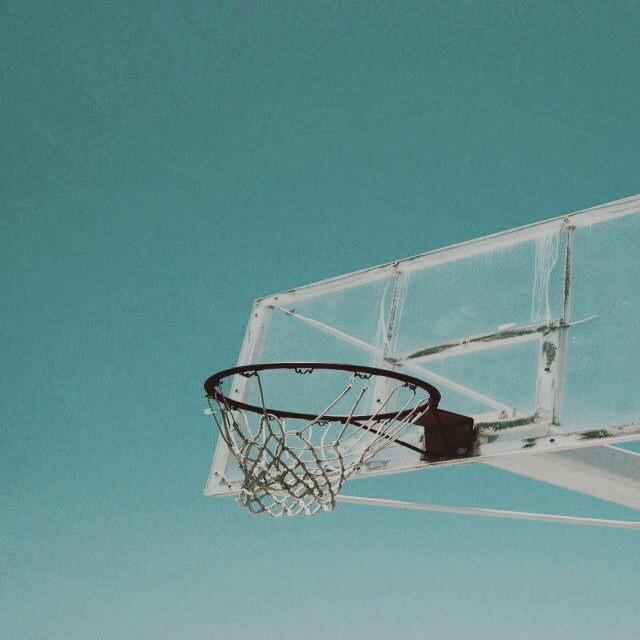hoop: (152, 353, 435, 521)
